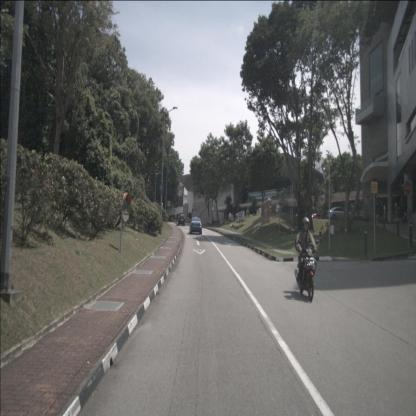vehicle-car: (326, 206, 354, 222), (190, 217, 202, 235), (176, 213, 186, 226), (312, 213, 326, 221)
vehicle-motorcycle: (295, 216, 320, 302)
